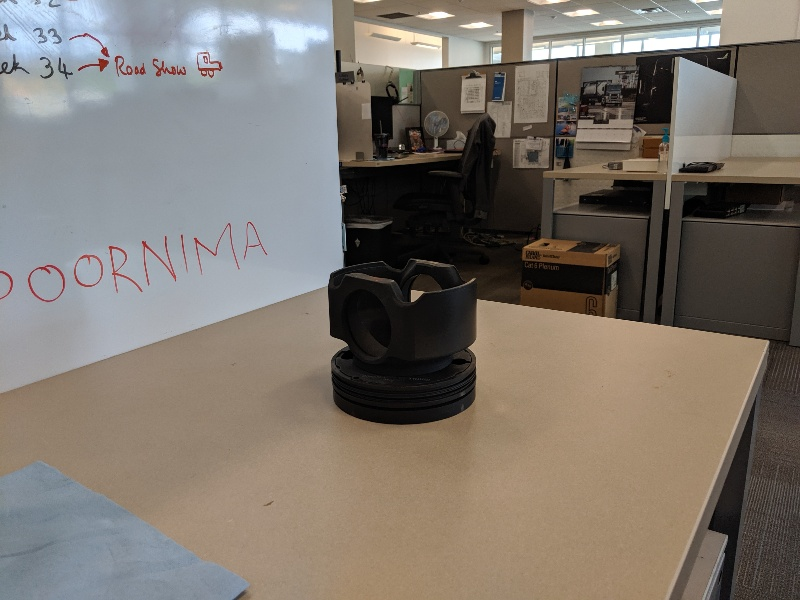piston: (321, 254, 484, 429)
